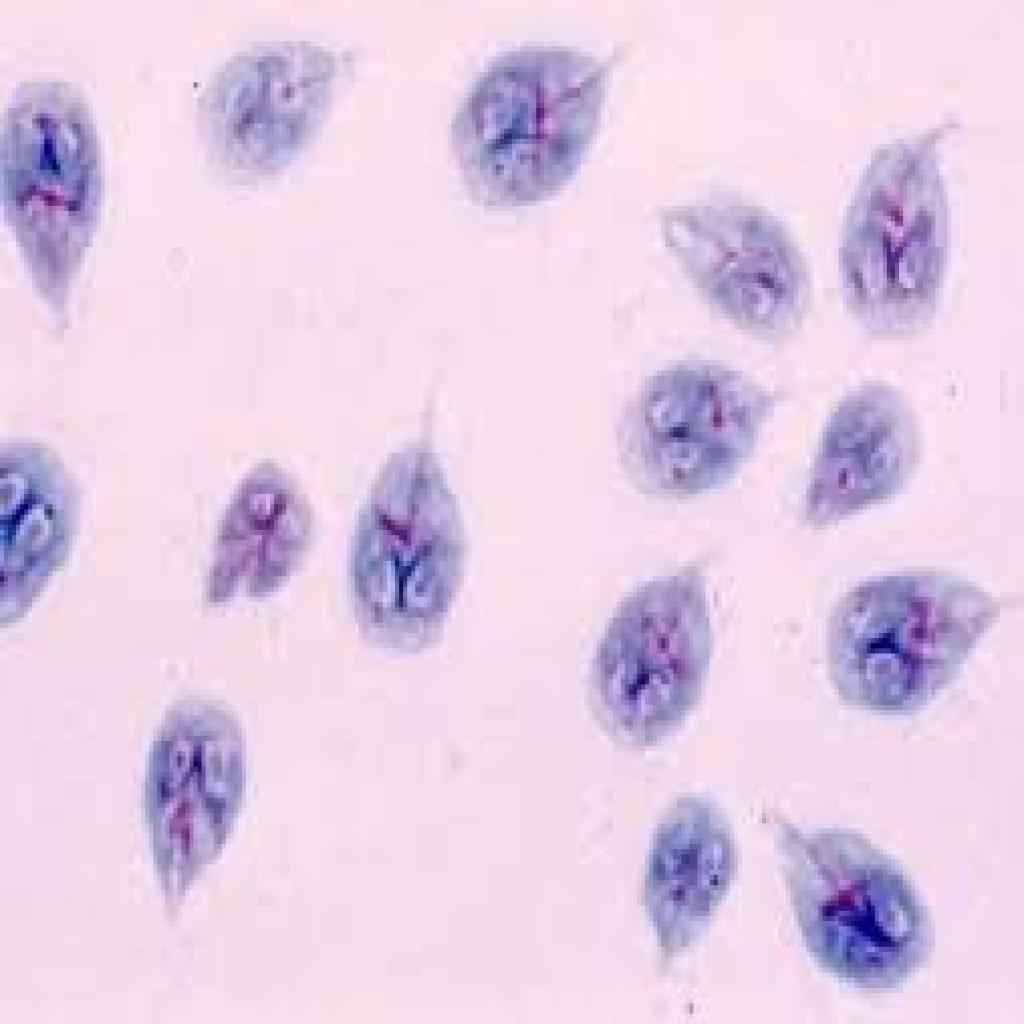Giardia: (334, 401, 472, 664), (770, 798, 943, 1004), (818, 556, 1008, 736), (439, 36, 621, 216), (838, 108, 960, 350), (133, 684, 250, 936), (576, 556, 718, 762), (649, 175, 810, 350), (193, 26, 359, 190), (0, 77, 97, 340), (609, 350, 778, 494), (786, 371, 927, 535), (629, 777, 742, 978), (202, 448, 310, 618), (0, 437, 89, 638)
